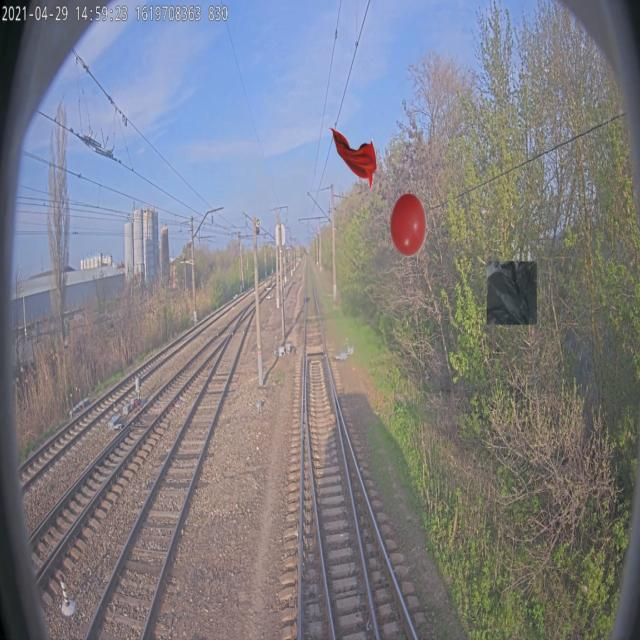balloon: (390, 193, 427, 257)
floating object: (328, 127, 378, 191)
plastic bag: (486, 260, 537, 324)
